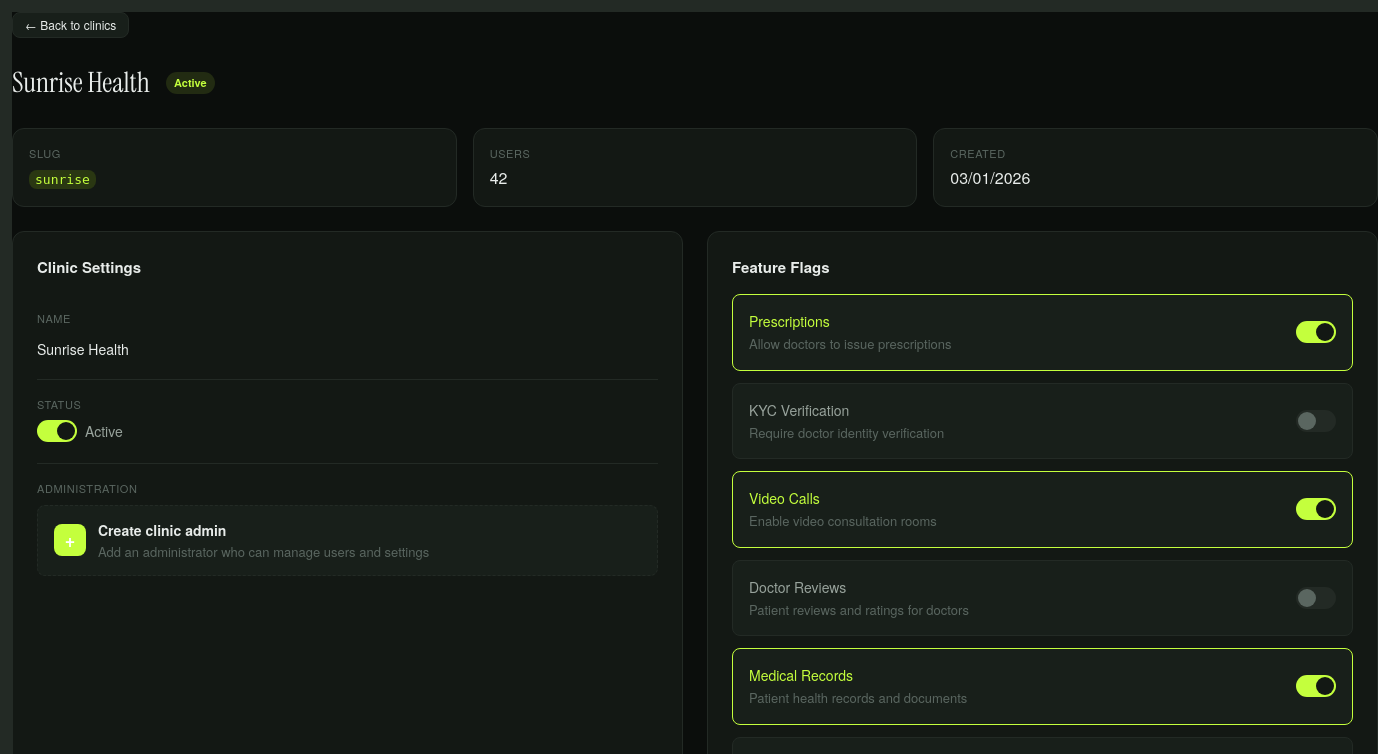
it: ClinicDetailPage › name inline editing › on save error shows settingsError inline and stays in edit mode
Click the button "Sunrise Health" at (83, 348), box [37,334,658,362]
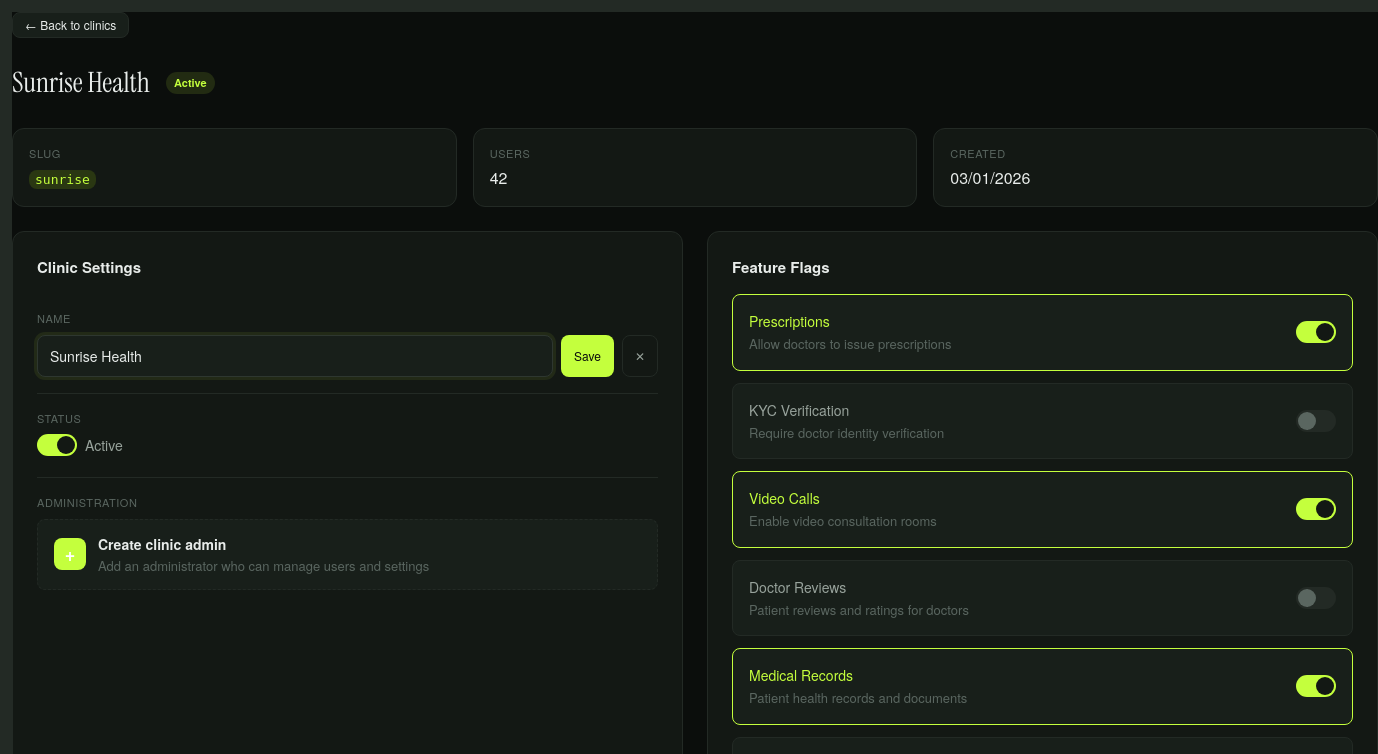
Click the button "Save" at (588, 356), box [561,334,614,376]
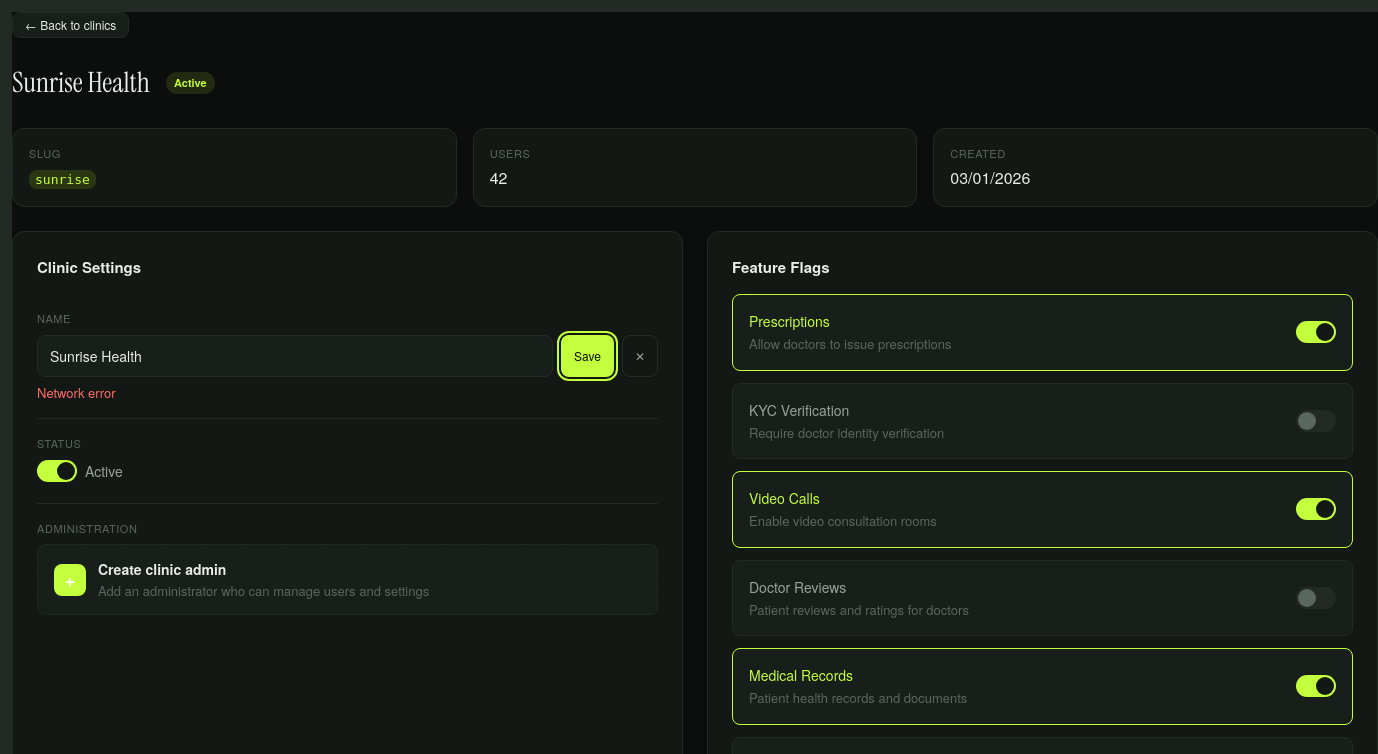
Now the element with class "settings-field-editing" is shown, box [37,334,658,376]
Now the text "Network error" is shown, box [37,382,116,402]
